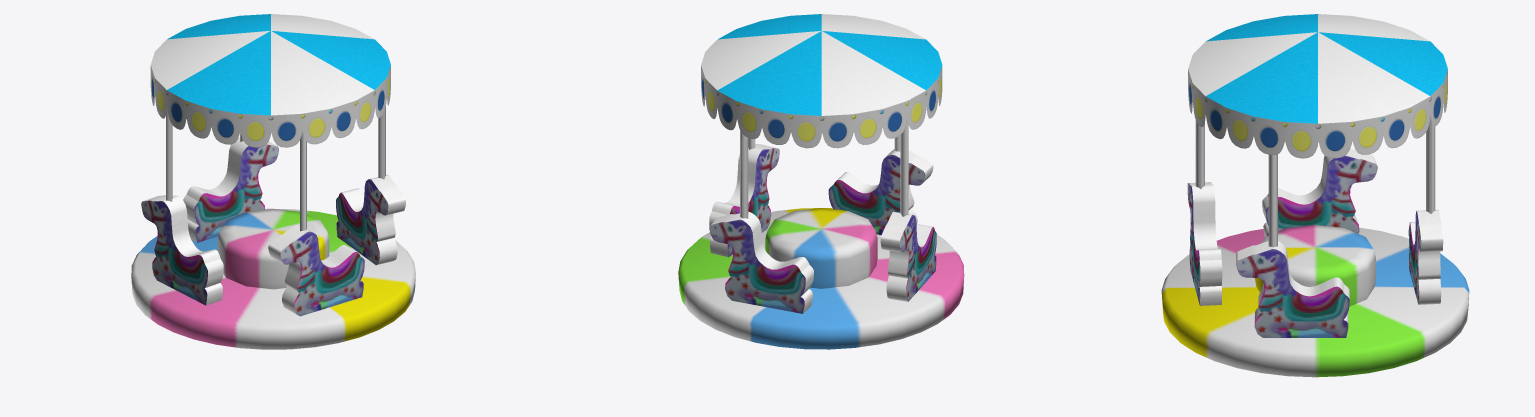
File: pony_turntable.DAE
3 renders of one model, left to right at view 1: azimuth 30°, elevation 25°; view 2: azimuth 150°, elevation 25°; view 3: azimuth 270°, elevation 25°, orthographic. The views are drawn at different scales.
Visible parts, largest first — view 1: pony_turntable; view 2: pony_turntable; view 3: pony_turntable.
Boxes of the visible parts, x1=… form: pony_turntable: x1=131, y1=14, x2=415, y2=349; pony_turntable: x1=678, y1=14, x2=964, y2=349; pony_turntable: x1=1161, y1=14, x2=1469, y2=377.
Size of the model in its own units: 2677 by 2677 by 2043.
Materials: 3 (3 with a texture image).
